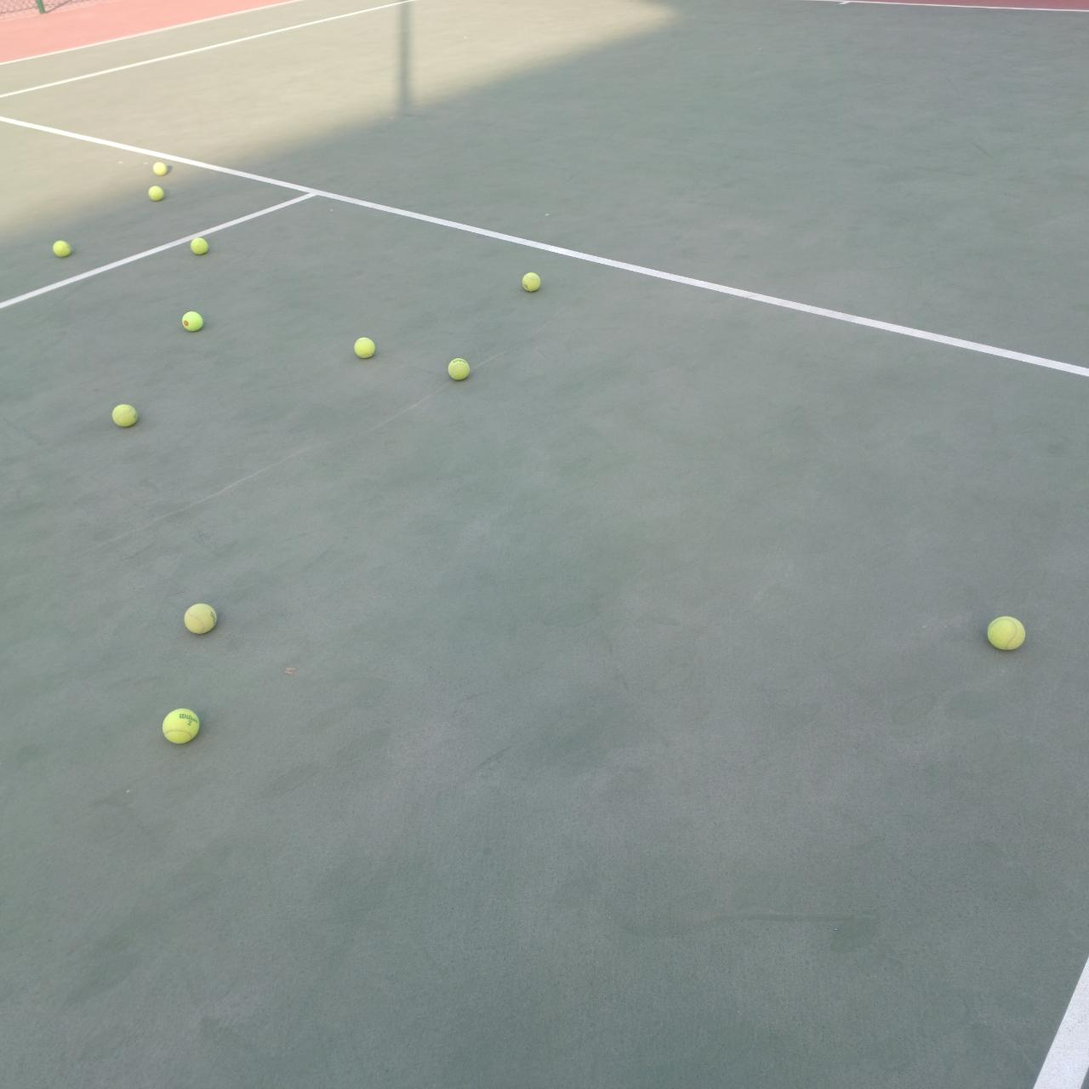tennis-ball: (985, 613, 1026, 651), (161, 706, 200, 744), (182, 601, 217, 635), (110, 401, 138, 427), (352, 334, 376, 358), (446, 356, 470, 380), (180, 309, 203, 332), (520, 270, 541, 292), (51, 237, 71, 257), (189, 235, 208, 254), (145, 184, 164, 201), (151, 159, 170, 176)
